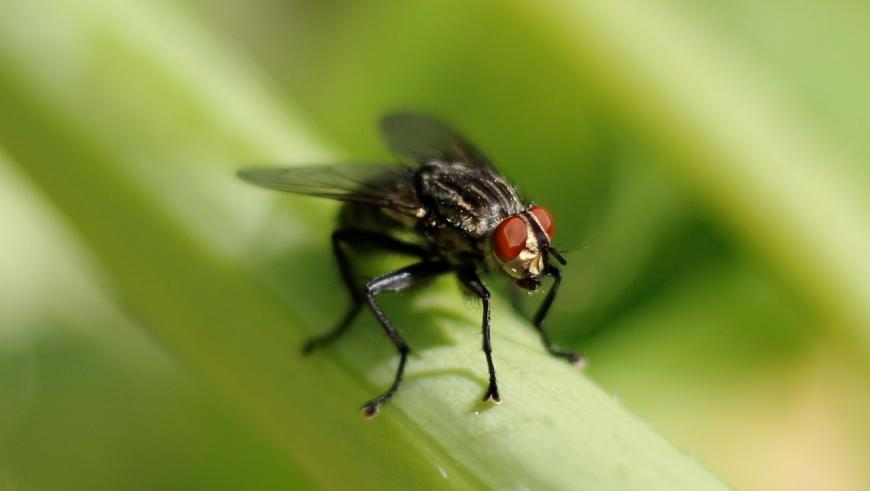green bottles fly: (212, 69, 605, 430)
